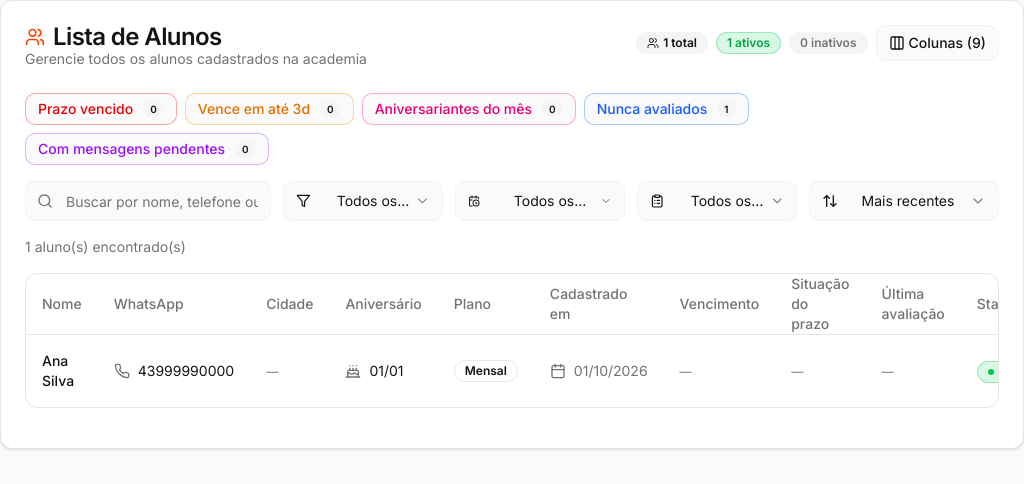
Test: student list screen › keeps calendar birthdays and supports searching and clearing filters after extraction
Expected: the text "01/01" is shown, [345, 362, 404, 379]
Type "Bruno" into the field with placeholder "Buscar por nome, telefone ou CPF..." at (148, 201), box [25, 181, 271, 221]
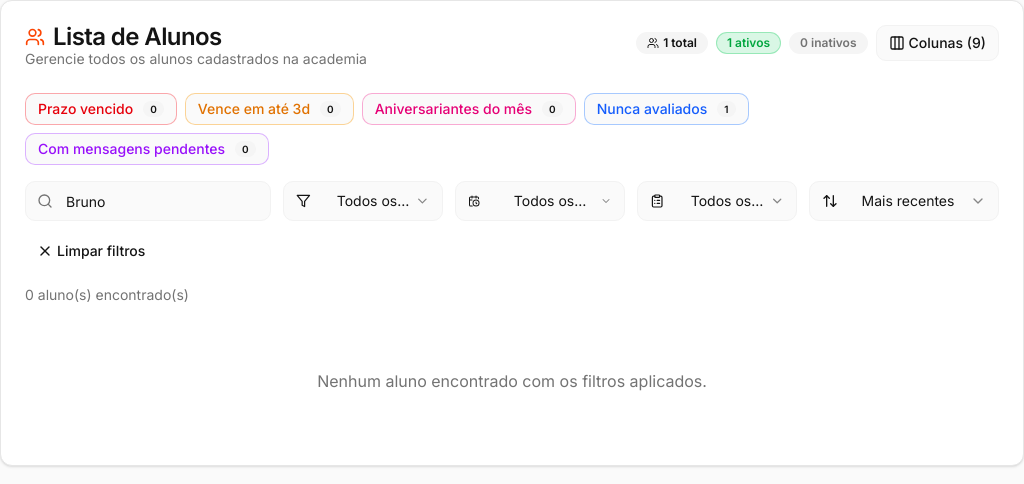
Expected: the text "Nenhum aluno encontrado com os filtros aplicados." is shown, [317, 371, 707, 391]
Click the button "Limpar filtros" at (91, 251), box [25, 233, 157, 269]
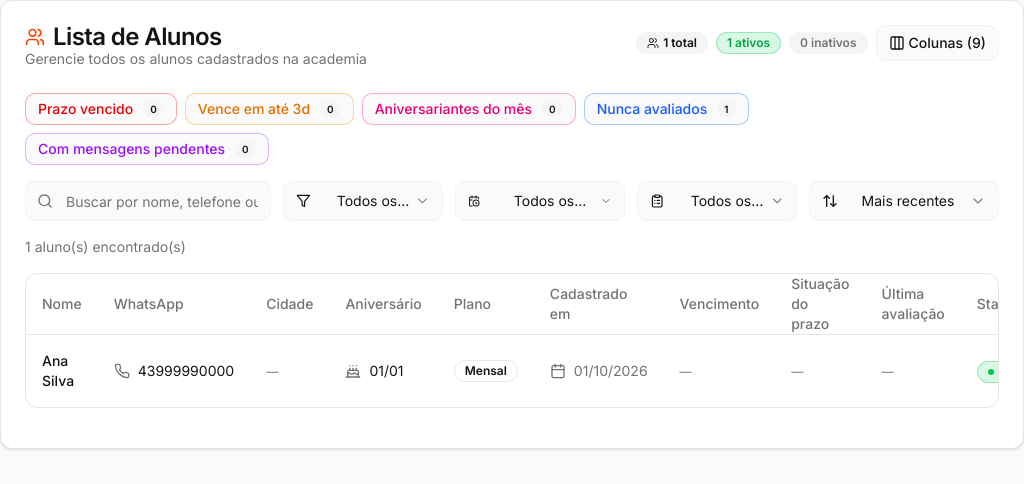
Expected: the text "Ana Silva" is shown 2 times
